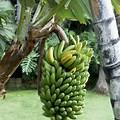banana: (41, 42, 88, 120)
